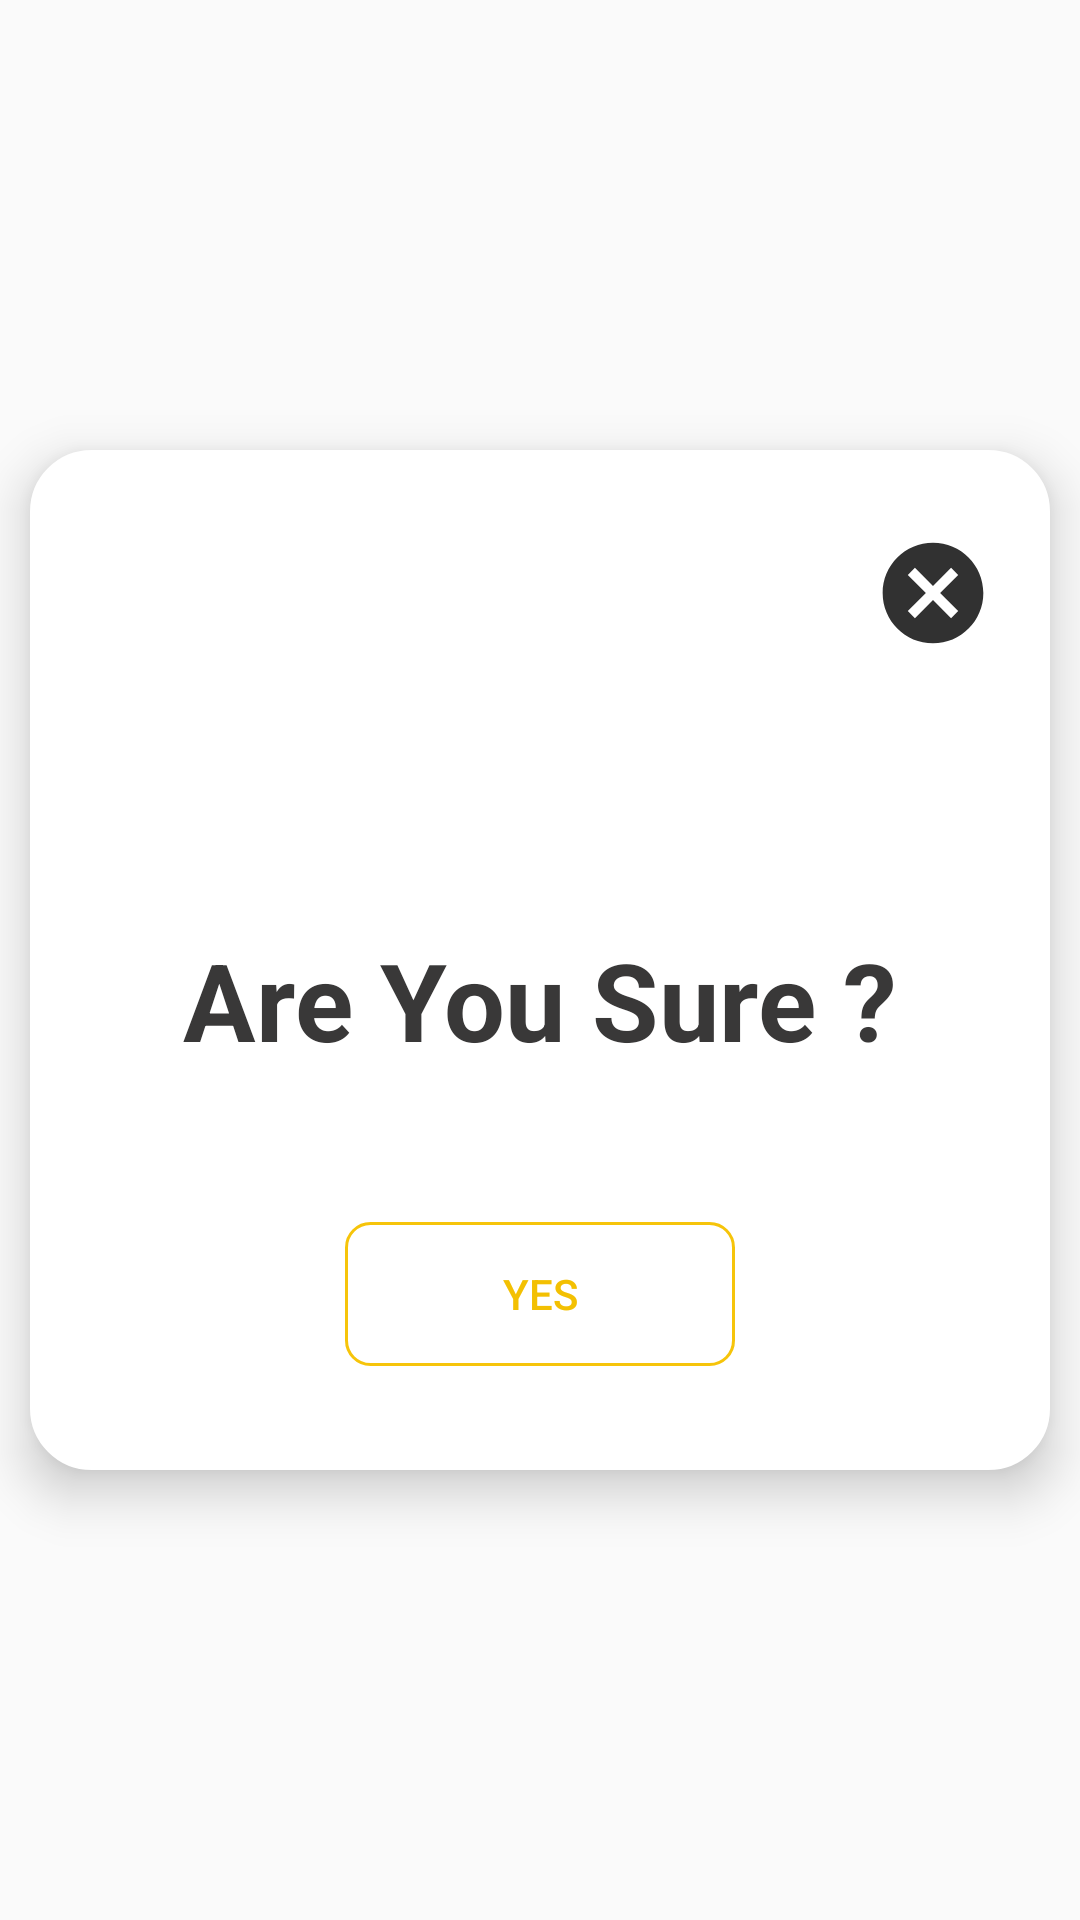

Named icons in this screenshot (1080px×1920px) and their centers, (x,y):
cancel: (933,593)
